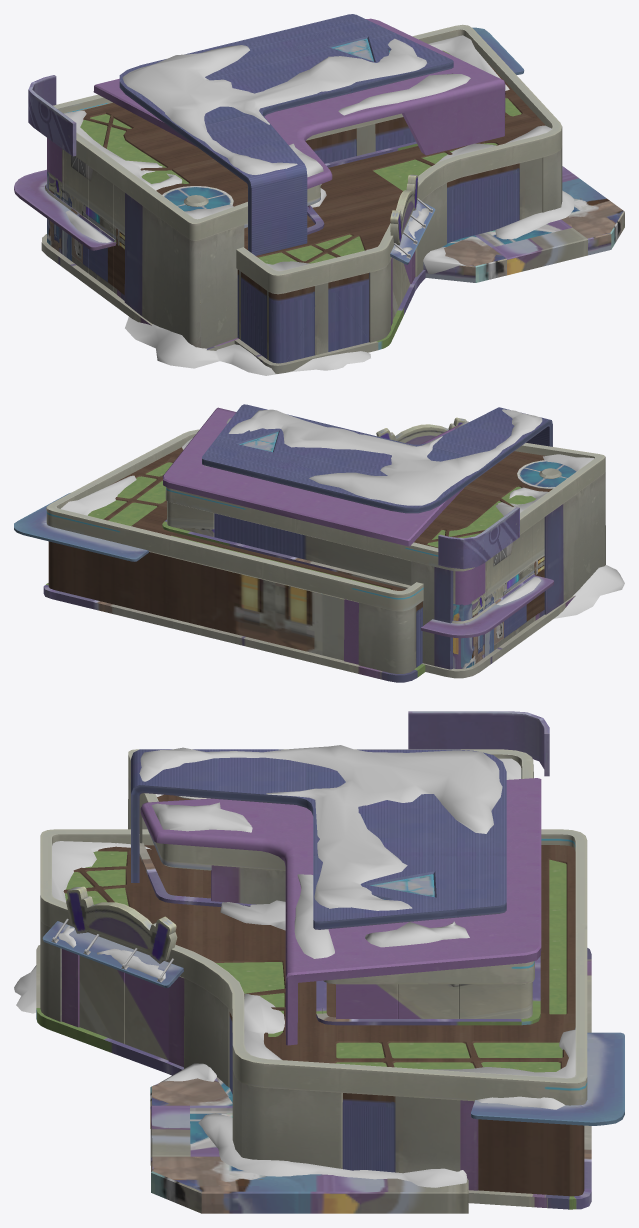
Rendered from pref_sm_city_shop03_snow_lv3.fbx.
3 views of the same model, one above another, from view 1: azimuth 30°, elevation 25°; view 2: azimuth 150°, elevation 25°; view 3: azimuth 270°, elevation 25° (orthographic). The views are drawn at different scales.
Parts seen in each view (by area): view 1: sm_city_shop03_snow_lv3, sm_city_shop03b_snow_lv3; view 2: sm_city_shop03_snow_lv3, sm_city_shop03b_snow_lv3; view 3: sm_city_shop03_snow_lv3, sm_city_shop03b_snow_lv3.
Part boxes in pixels (x1=…): sm_city_shop03_snow_lv3: x1=14, y1=14, x2=624, y2=373; sm_city_shop03b_snow_lv3: x1=64, y1=35, x2=574, y2=375; sm_city_shop03_snow_lv3: x1=14, y1=404, x2=605, y2=682; sm_city_shop03b_snow_lv3: x1=61, y1=409, x2=624, y2=618; sm_city_shop03_snow_lv3: x1=36, y1=711, x2=624, y2=1213; sm_city_shop03b_snow_lv3: x1=14, y1=745, x2=575, y2=1187.
Size of the model in its own units: 29.35 by 9.78 by 23.96.
